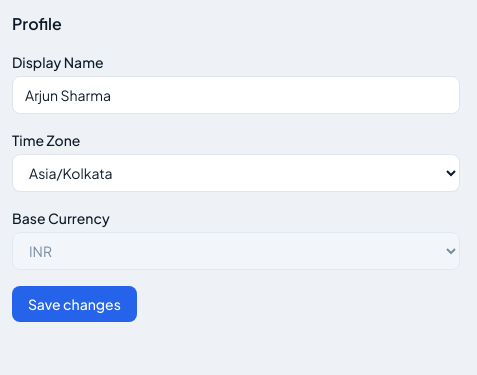
Scenario: ProfileSection — F-15-10: server error DISPLAY_NAME_BLANK shown inline › shows inline error when PATCH returns DISPLAY_NAME_BLANK
Expected: the field labelled "Display Name" is shown, [12,76,460,114]
Click the button "Save changes" at (74, 304), box [12,286,137,322]
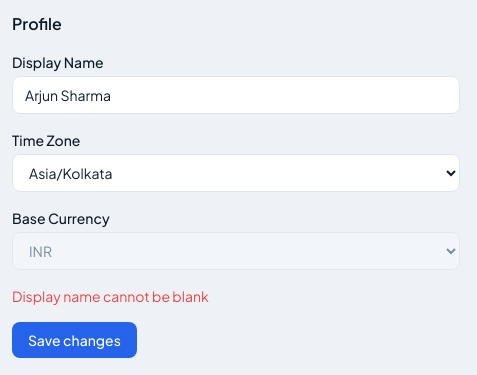
Expected: the message reads "Display name cannot be blank", [12,287,209,305]
